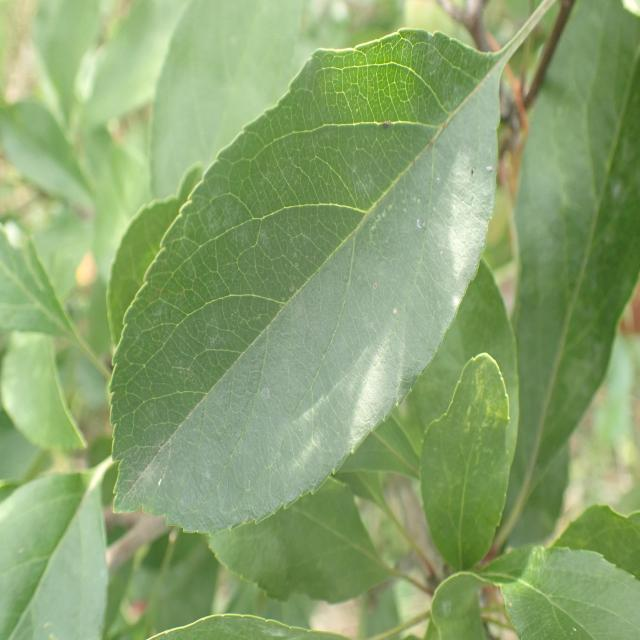Powdery_mildew: (113, 8, 525, 527)
